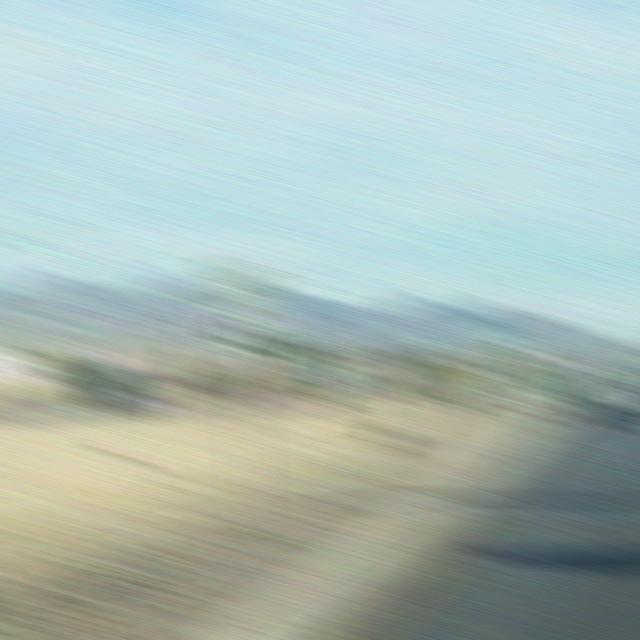speedLimit45: (204, 258, 283, 369)
